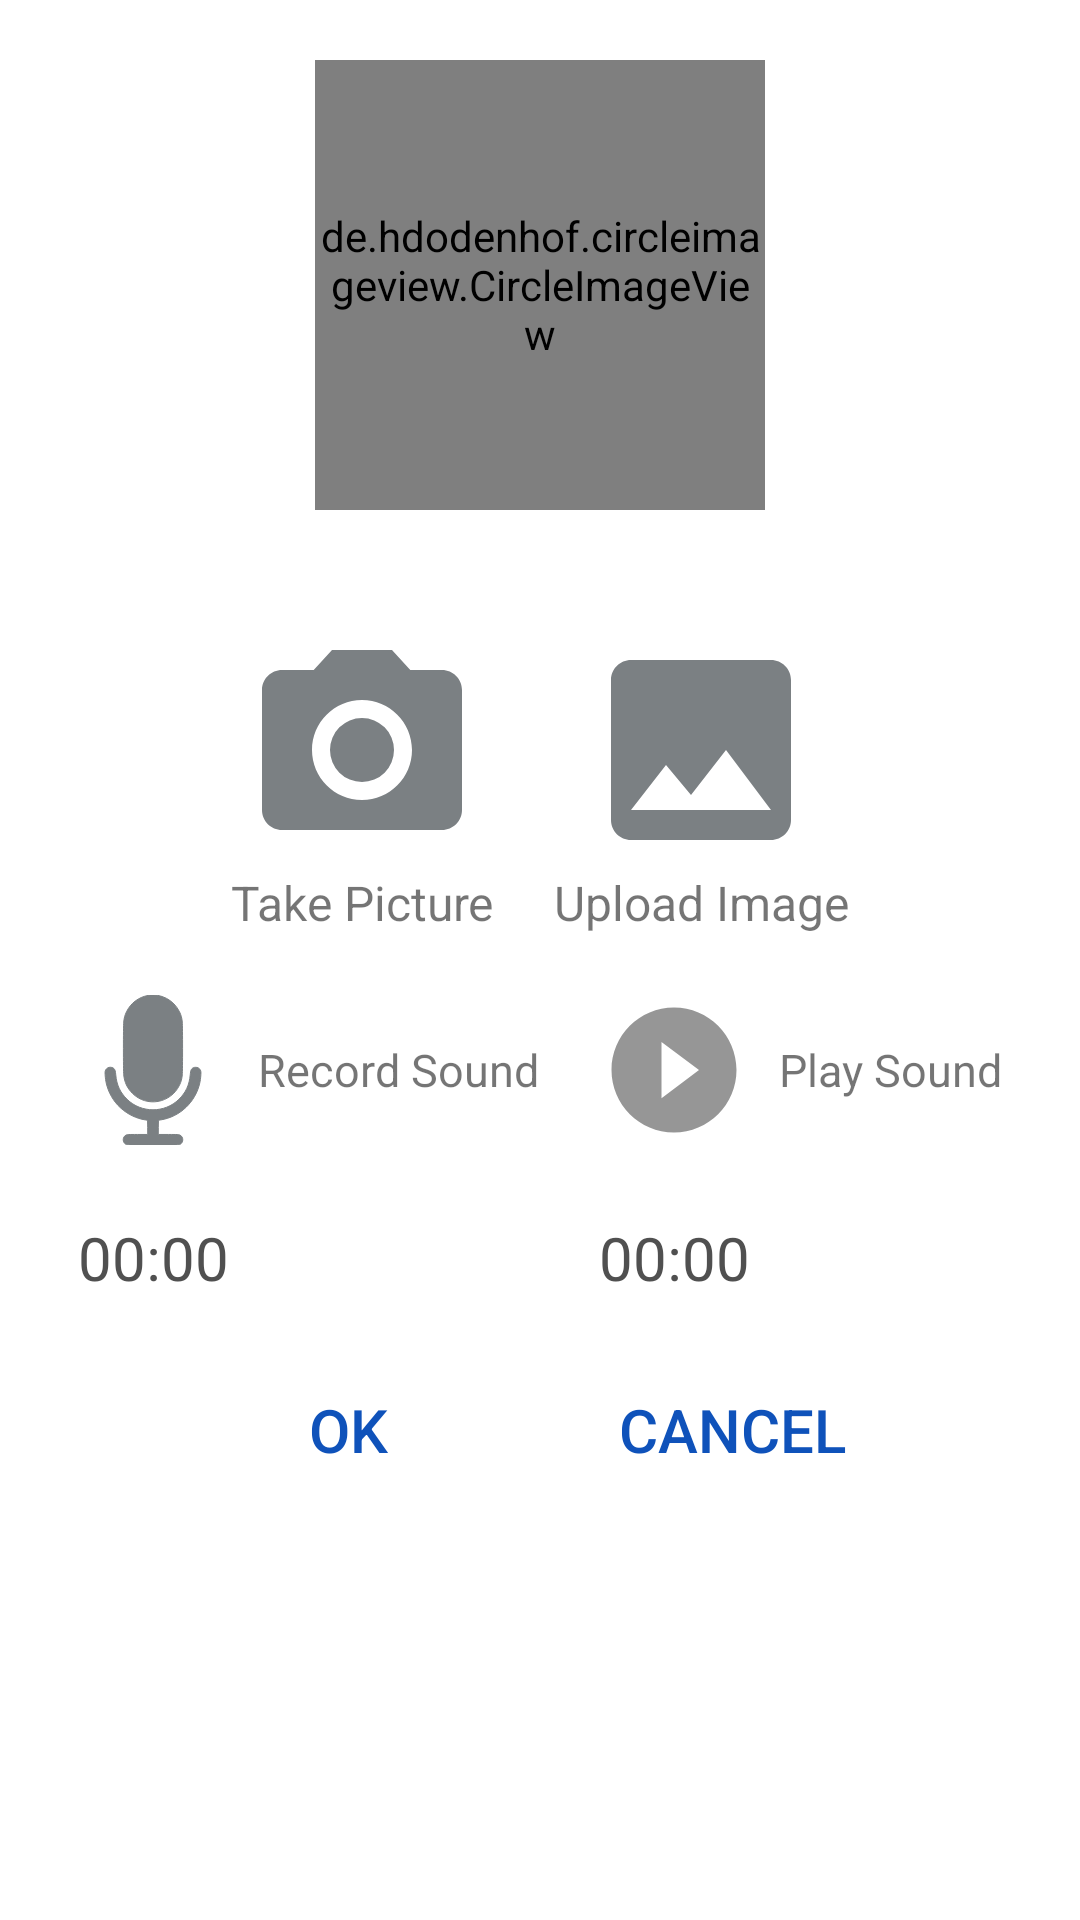

Named icons in this screenshot (1080×1920) and their bounding boxes, region(x1, y1, x2, y2):
photo camera: region(262, 650, 462, 830)
play circle: region(611, 1007, 737, 1133)
